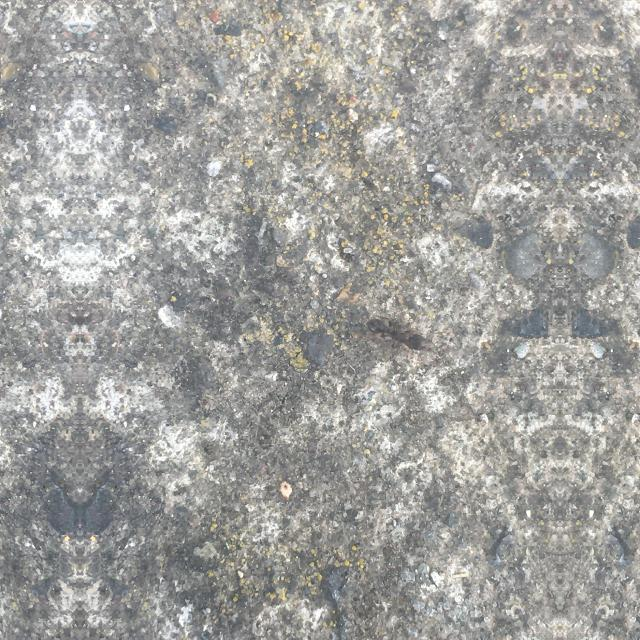Tetramorium: (356, 308, 436, 359)
